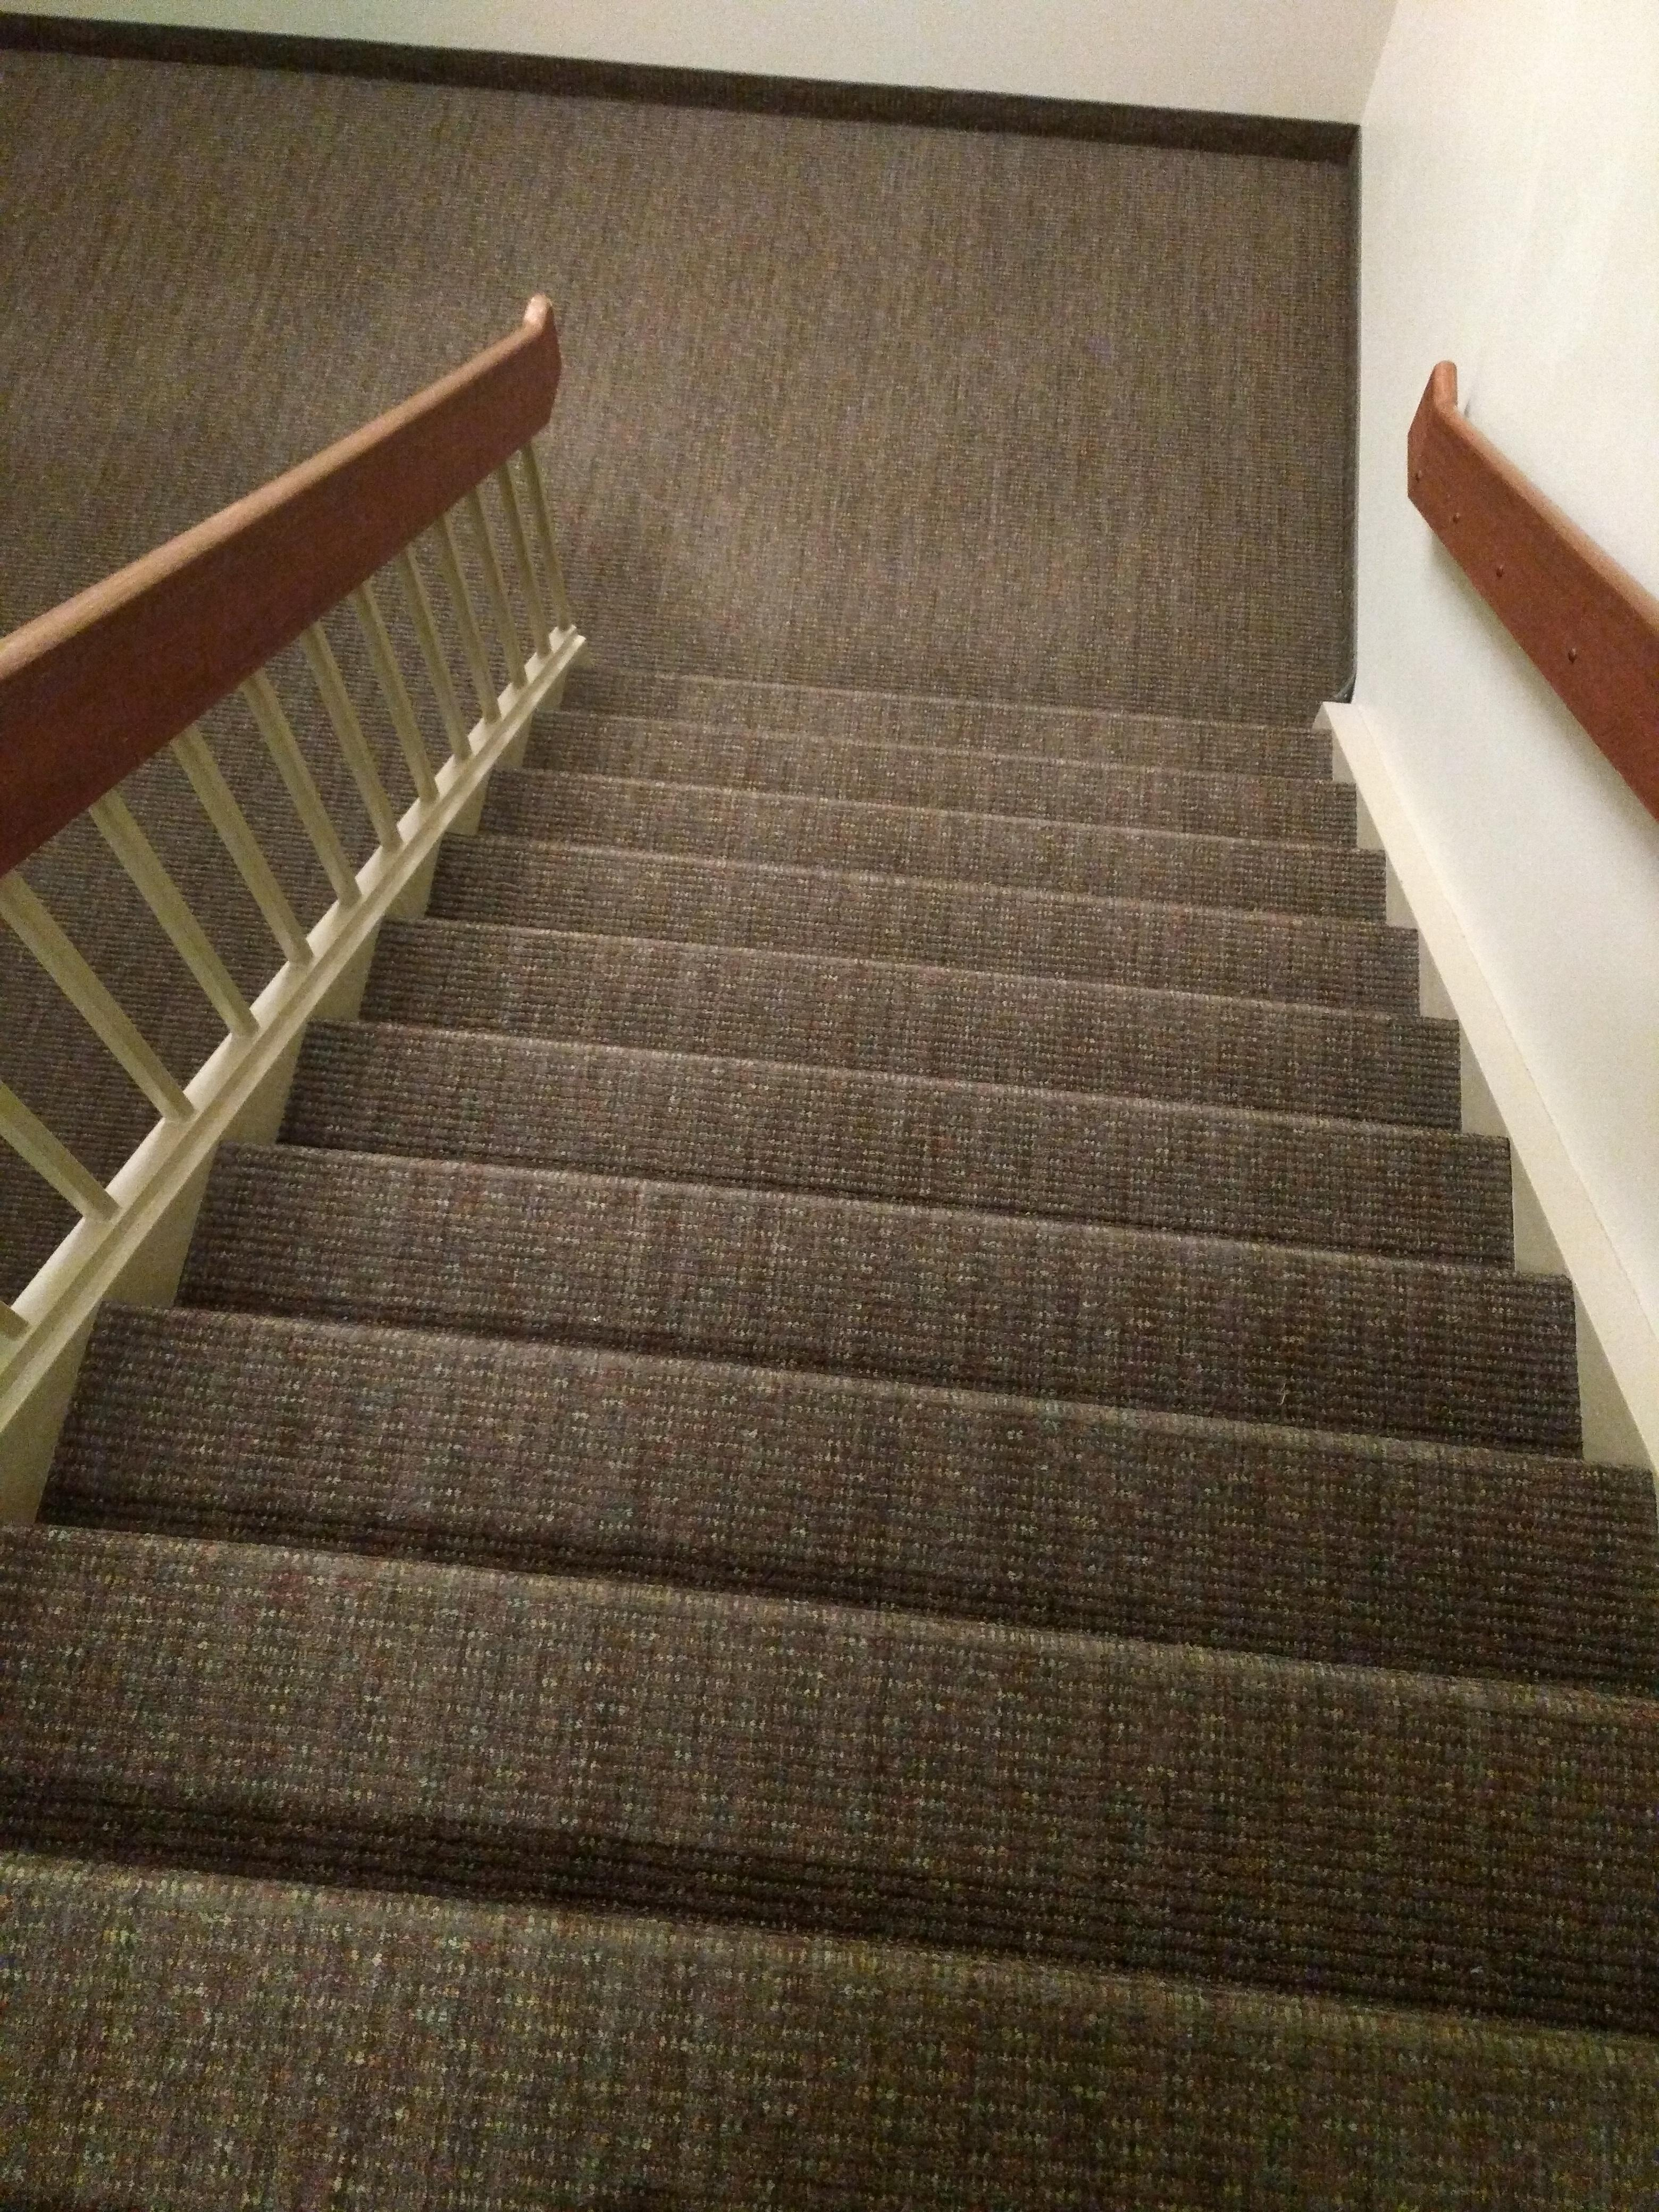stairs_down: (5, 648, 1659, 2121)
